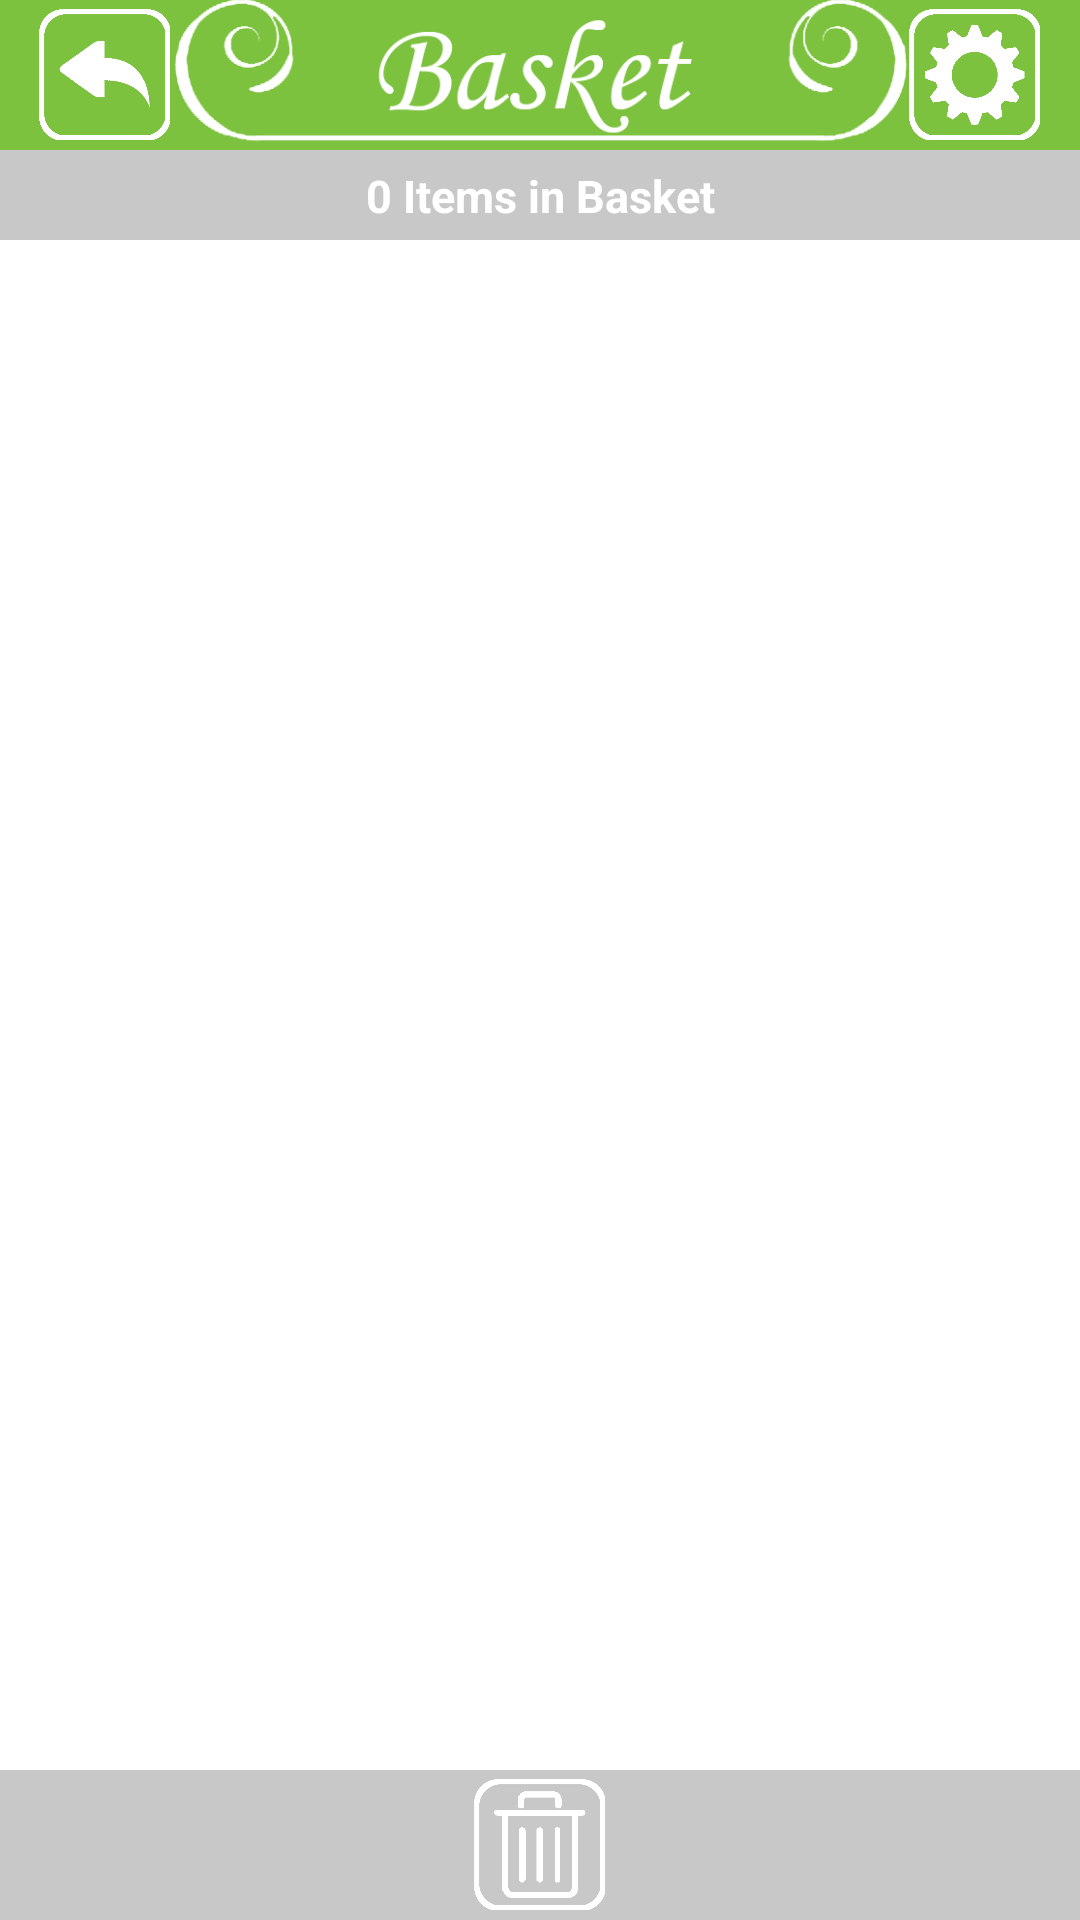

Icons on this 1080 × 1920 Android screen, each with its box as bbox=(x1, y1, x2, y2):
backbutton: bbox=(39, 9, 170, 140)
clear all: bbox=(474, 1779, 605, 1910)
settingsbutton: bbox=(909, 9, 1040, 140)
